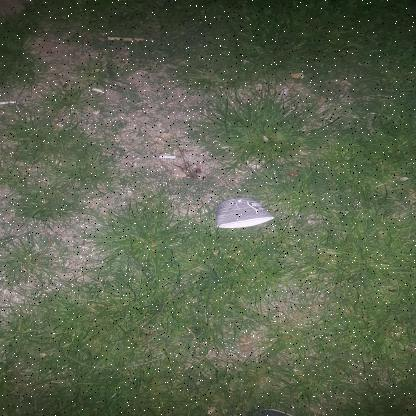cardboard: (214, 198, 275, 232)
